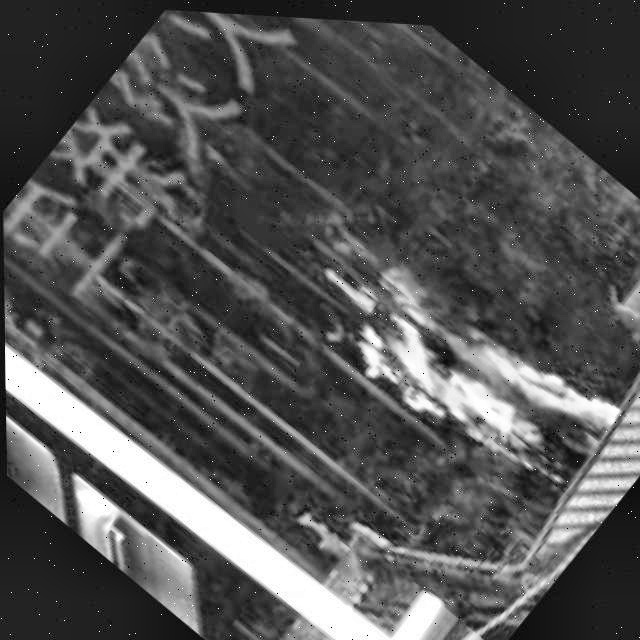Fire: (254, 168, 632, 521)
